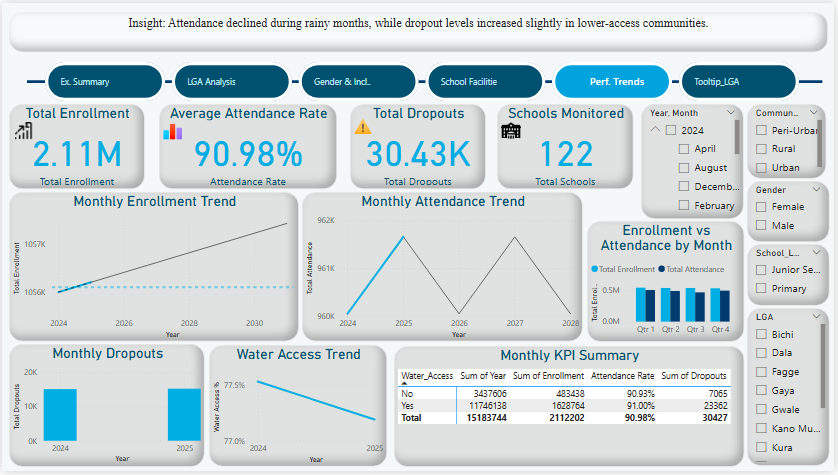

What the dashboard file says about the page in this screenshot:
{"tool":"powerbi","page":{"name":"Performance Trends ","canvas":[1280,720],"ordinal":4},"visuals":[{"type":"textbox","box":[10.1,14.4,1260,61.9],"z":0},{"type":"lineChart","title":"Monthly Enrollment Trend","fields":{"Category":["Raw_Data.Date.Variation.Date Hierarchy.Year","Raw_Data.Date.Variation.Date Hierarchy.Quarter","Raw_Data.Date.Variation.Date Hierarchy.Month","Raw_Data.Date.Variation.Date Hierarchy.Day"],"Y":["Raw_Data.Total Enrollment"]},"box":[10.1,290.9,446.4,230.4],"z":1000},{"type":"card","title":"Total Enrollment","fields":{"Values":["Raw_Data.Total Enrollment"]},"box":[10.1,156.2,208.8,131],"z":2000,"group":"g1"},{"type":"lineChart","title":"Monthly Attendance Trend","fields":{"Category":["Raw_Data.Date.Variation.Date Hierarchy.Year","Raw_Data.Date.Variation.Date Hierarchy.Quarter","Raw_Data.Date.Variation.Date Hierarchy.Month","Raw_Data.Date.Variation.Date Hierarchy.Day"],"Y":["Raw_Data.Total Attendance"]},"box":[460.8,290.9,432,230.4],"z":2000},{"type":"clusteredColumnChart","title":"Enrollment vs Attendance by Month","fields":{"Category":["Raw_Data.Date.Variation.Date Hierarchy.Year","Raw_Data.Date.Variation.Date Hierarchy.Quarter","Raw_Data.Date.Variation.Date Hierarchy.Month","Raw_Data.Date.Variation.Date Hierarchy.Day"],"Y":["Raw_Data.Total Enrollment","Raw_Data.Total Attendance"]},"box":[900,335.5,241.9,185.8],"z":3000},{"type":"card","title":"Average Attendance Rate","fields":{"Values":["Raw_Data.Attendance Rate"]},"box":[241.9,156.2,273.6,131],"z":4000,"group":"g2"},{"type":"clusteredColumnChart","title":"Monthly Dropouts","fields":{"Category":["Raw_Data.Date.Variation.Date Hierarchy.Year","Raw_Data.Date.Variation.Date Hierarchy.Quarter","Raw_Data.Date.Variation.Date Hierarchy.Month","Raw_Data.Date.Variation.Date Hierarchy.Day"],"Y":["Raw_Data.Total Dropouts"]},"box":[10.2,525.4,301.5,188.8],"z":4000},{"type":"lineChart","title":"Water Access Trend","fields":{"Category":["Raw_Data.Date.Variation.Date Hierarchy.Year","Raw_Data.Date.Variation.Date Hierarchy.Quarter","Raw_Data.Date.Variation.Date Hierarchy.Month","Raw_Data.Date.Variation.Date Hierarchy.Day"],"Y":["Raw_Data.Water Access %"]},"box":[319,526.8,273.7,187.3],"z":5000},{"type":"card","title":"Total Dropouts","fields":{"Values":["Raw_Data.Total Dropouts"]},"box":[535.7,156.2,208.8,131],"z":6000,"group":"g3"},{"type":"pivotTable","title":"Monthly KPI Summary","fields":{"Values":["Sum(Raw_Data.Year)","Sum(Raw_Data.Enrollment)","Raw_Data.Attendance Rate","Sum(Raw_Data.Dropouts)"],"Rows":["Raw_Data.Water_Access"]},"box":[602.9,528.3,538.5,185.9],"z":6000},{"type":"slicer","fields":{"Values":["Raw_Data.Year","Raw_Data.Month"]},"box":[983.5,155.5,158.4,177.1],"z":7000},{"type":"card","title":"Schools Monitored","fields":{"Values":["Raw_Data.Total Schools"]},"box":[761.8,156.2,210.2,131],"z":8000,"group":"g4"},{"type":"slicer","fields":{"Values":["Raw_Data.LGA"]},"box":[1146.2,469.4,126.7,243.4],"z":8000},{"type":"slicer","fields":{"Values":["Raw_Data.Community_Type"]},"box":[1146.2,155.5,122.4,115.2],"z":9000},{"type":"slicer","fields":{"Values":["Raw_Data.School_Level"]},"box":[1146.2,371.5,126.7,95],"z":10000},{"type":"slicer","fields":{"Values":["Raw_Data.Gender"]},"box":[1146.2,273.6,126.7,93.6],"z":11000},{"type":"group","id":"g1","title":"Group 1","box":[10.1,156.2,208.8,131],"z":12000},{"type":"group","id":"g2","title":"Group 2","box":[241.9,156.2,273.6,131],"z":13000},{"type":"group","id":"g3","title":"Group 3","box":[531.4,156.2,213.1,131],"z":14000},{"type":"group","id":"g4","title":"Group 4","box":[761.8,156.2,210.2,131],"z":15000},{"type":"shape","box":[38.9,90.7,1224,60.5],"z":16000},{"type":"image","box":[10.1,172,44.6,50.4],"z":16000,"group":"g1"},{"type":"pageNavigator","box":[66.2,90.7,1160.6,60.5],"z":17000},{"type":"image","box":[241.9,172,41.8,56.2],"z":17000,"group":"g2"},{"type":"image","box":[531.4,172,49,38.9],"z":18000,"group":"g3"},{"type":"image","box":[761.8,172,43.2,51.8],"z":19000,"group":"g4"}]}

Visuals, with their boxes in screenshot pixels (x1, y1, x2, y2), scaled from the page's 1280x720 canvas onto the 838x475 screenshot:
textbox: Rect(7, 10, 832, 50)
"Monthly Enrollment Trend" lineChart: Rect(7, 192, 299, 344)
"Total Enrollment" card: Rect(7, 103, 143, 189)
"Monthly Attendance Trend" lineChart: Rect(302, 192, 585, 344)
"Enrollment vs Attendance by Month" clusteredColumnChart: Rect(589, 221, 748, 344)
"Average Attendance Rate" card: Rect(158, 103, 337, 189)
"Monthly Dropouts" clusteredColumnChart: Rect(7, 347, 204, 471)
"Water Access Trend" lineChart: Rect(209, 348, 388, 471)
"Total Dropouts" card: Rect(351, 103, 487, 189)
"Monthly KPI Summary" pivotTable: Rect(395, 349, 747, 471)
slicer - Raw_Data.Year x Raw_Data.Month: Rect(644, 103, 748, 219)
"Schools Monitored" card: Rect(499, 103, 636, 189)
slicer - Raw_Data.LGA: Rect(750, 310, 833, 470)
slicer - Raw_Data.Community_Type: Rect(750, 103, 831, 179)
slicer - Raw_Data.School_Level: Rect(750, 245, 833, 308)
slicer - Raw_Data.Gender: Rect(750, 180, 833, 242)
"Group 1" group: Rect(7, 103, 143, 189)
"Group 2" group: Rect(158, 103, 337, 189)
"Group 3" group: Rect(348, 103, 487, 189)
"Group 4" group: Rect(499, 103, 636, 189)
shape: Rect(25, 60, 827, 100)
image: Rect(7, 113, 36, 147)
pageNavigator: Rect(43, 60, 803, 100)
image: Rect(158, 113, 186, 151)
image: Rect(348, 113, 380, 139)
image: Rect(499, 113, 527, 148)
